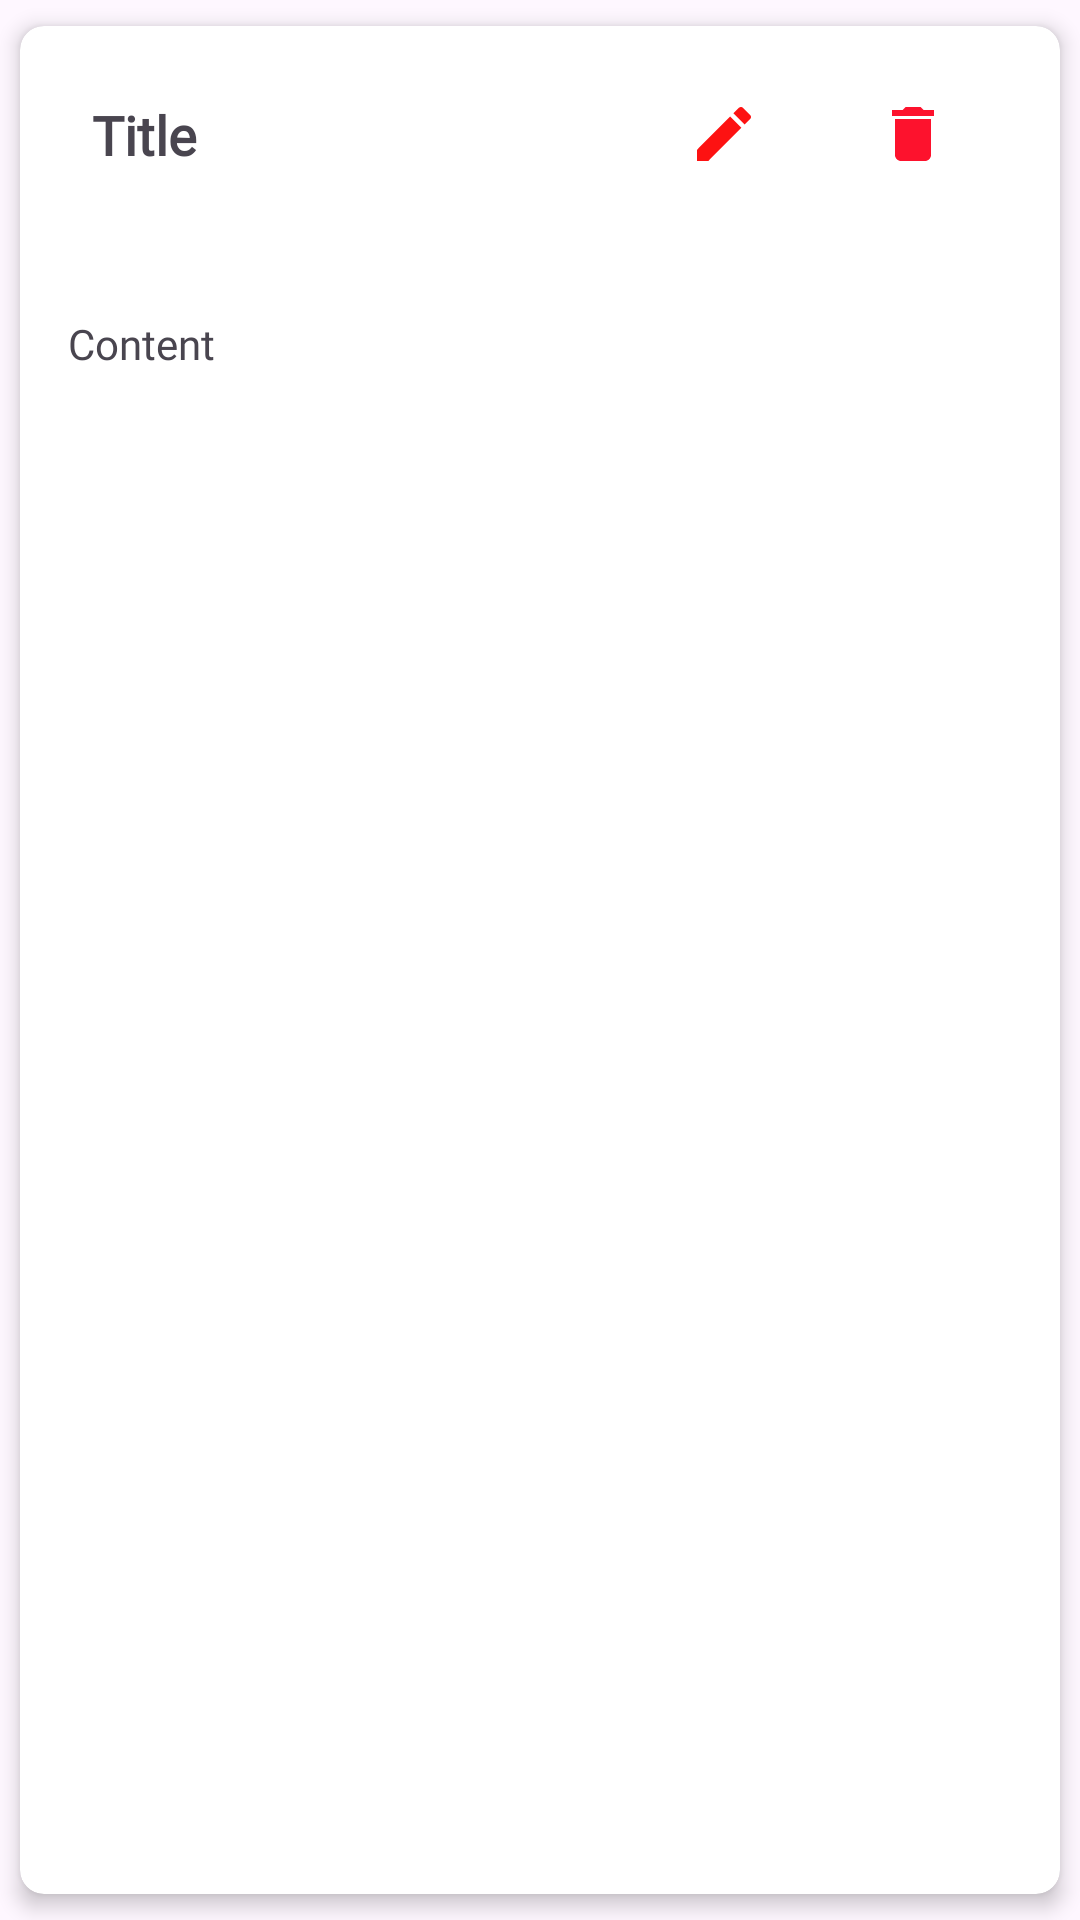

Named icons in this screenshot (1080 x 1920) and their centers, (x,y):
delete: (913,134)
edit: (724,134)
